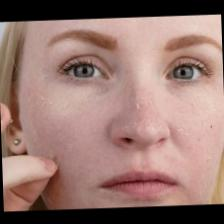Dry: (25, 15, 224, 209)
